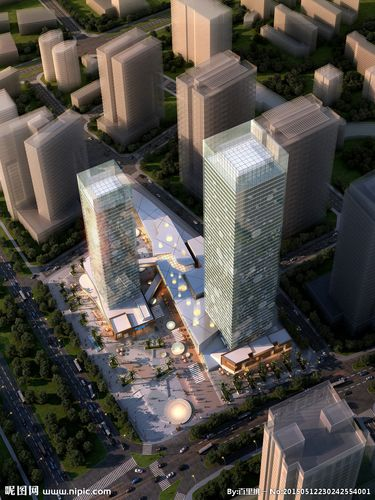buildings: (187, 124, 317, 348), (163, 77, 277, 261), (61, 164, 145, 338), (255, 393, 366, 494)
